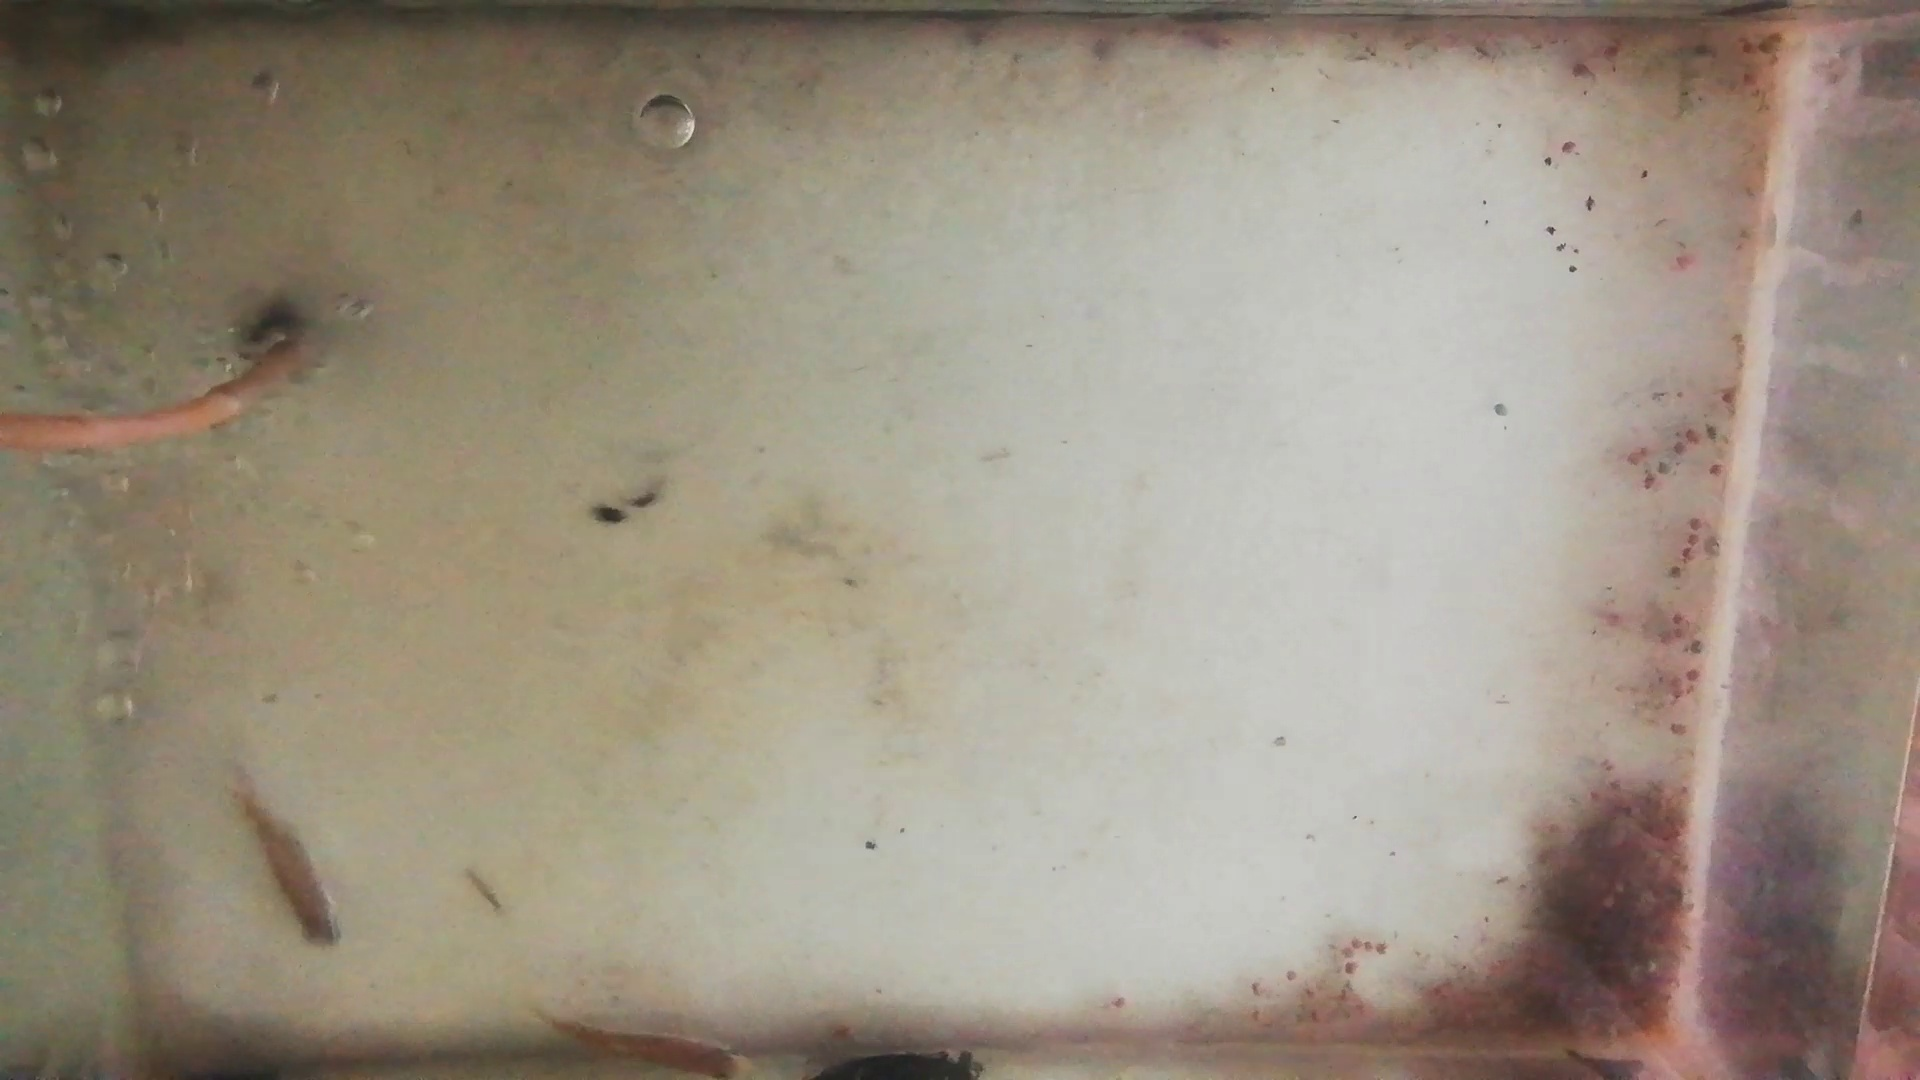fish: (240, 793, 345, 949), (549, 1017, 756, 1077)
